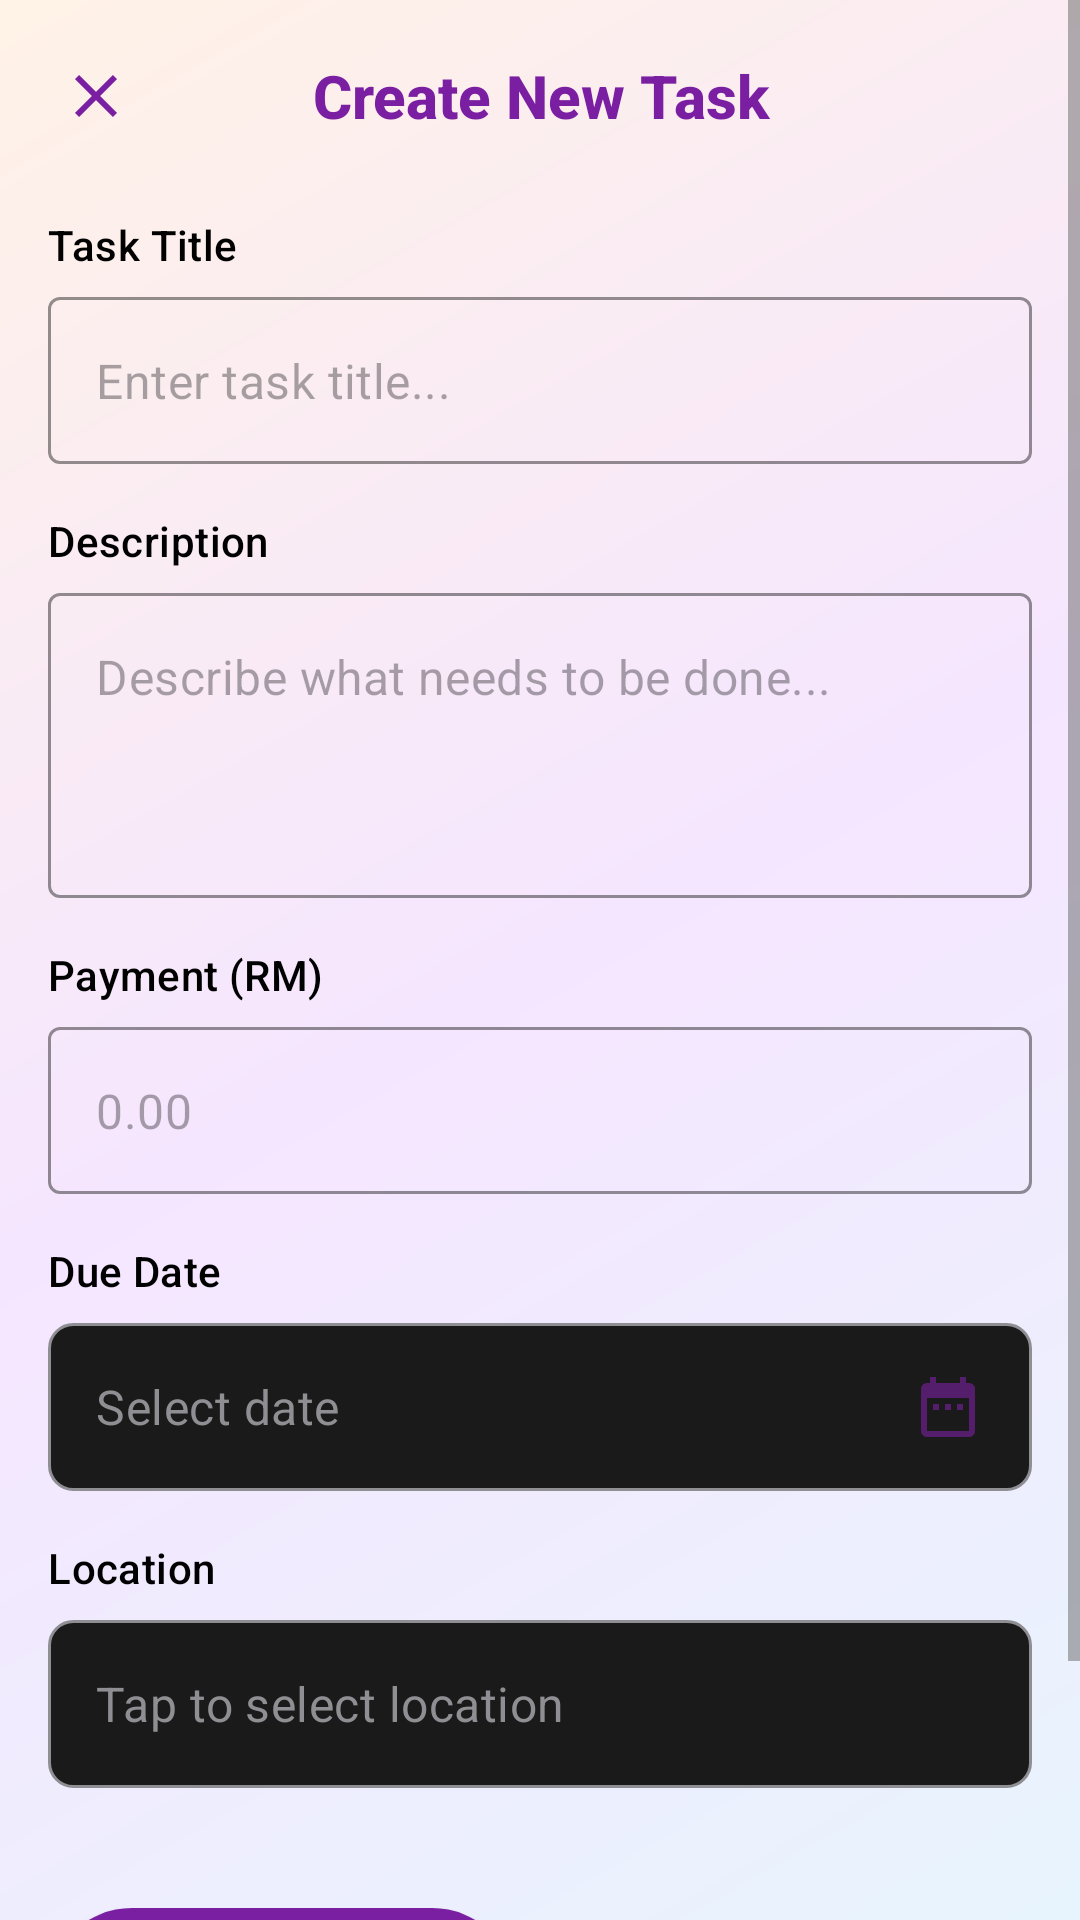

Where to tap for icons on this 1080*1920 app screen, as (x=x, y=y):
calendar: (x=948, y=1407)
close: (x=96, y=96)
